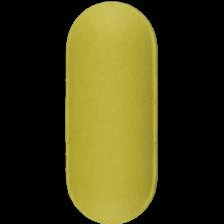35356-809: (0, 0, 224, 224)
